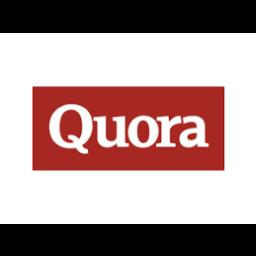q: (48, 88, 96, 160)
